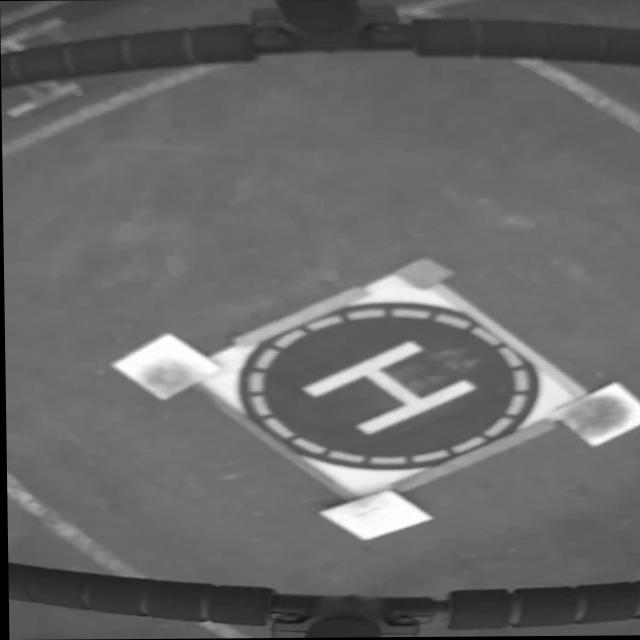Helipad: (301, 341, 474, 434)
